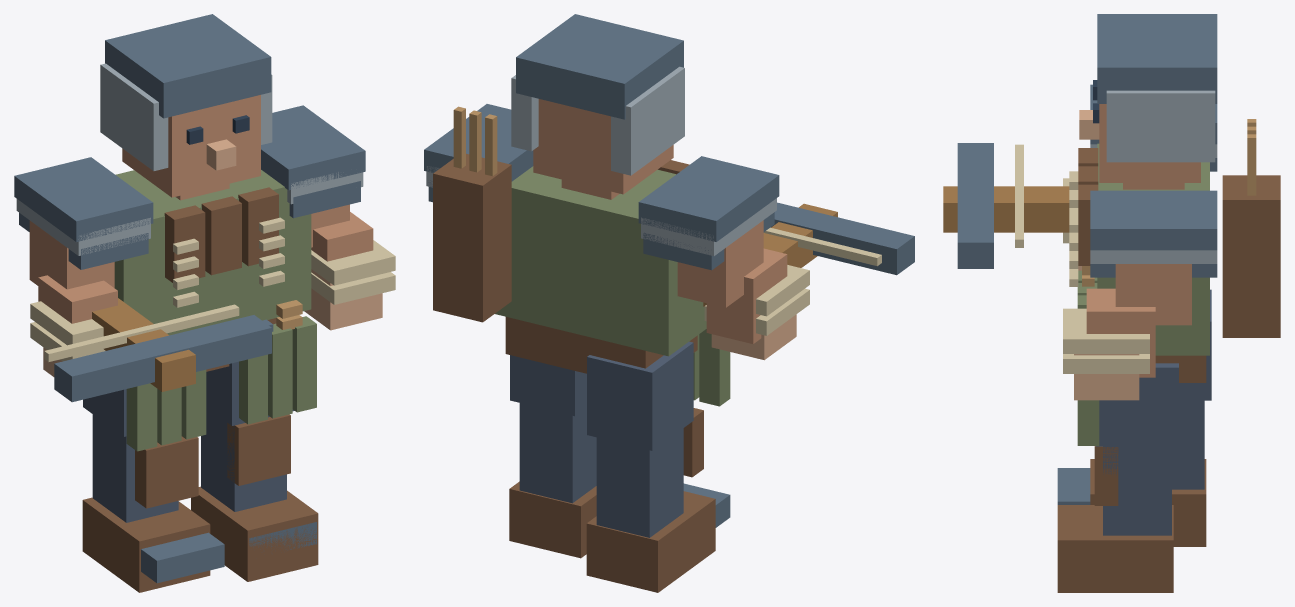
Rendered from arena-q-crossbow.glb.
3 views of the same model, side by side, from view 1: azimuth 30°, elevation 25°; view 2: azimuth 150°, elevation 25°; view 3: azimuth 270°, elevation 25° (orthographic). The views are drawn at different scales.
Visible parts, largest first — view 1: Shoulders, Helmet, Boots, Weapon, Cloth, Legs, Skirt, Arms, Greaves, Head, Vest, Wraps (+4 smaller); view 2: Legs, Cloth, Helmet, Quiver, Shoulders, Boots, Head, Arms, Weapon, Belt, Wraps, Skirt (+2 smaller); view 3: Helmet, Legs, Boots, Shoulders, Quiver, Weapon, Arms, Wraps, Cloth, Head, Hands, Vest (+5 smaller).
Boxes of the visible parts, x1=… form: Shoulders: x1=14, y1=105, x2=365, y2=269; Helmet: x1=100, y1=14, x2=272, y2=170; Boots: x1=82, y1=486, x2=318, y2=592; Weapon: x1=44, y1=298, x2=271, y2=402; Cloth: x1=114, y1=170, x2=311, y2=335; Legs: x1=83, y1=361, x2=294, y2=522; Skirt: x1=126, y1=316, x2=316, y2=451; Arms: x1=29, y1=204, x2=373, y2=323; Greaves: x1=135, y1=414, x2=290, y2=508; Head: x1=122, y1=95, x2=260, y2=200; Vest: x1=164, y1=187, x2=278, y2=282; Wraps: x1=30, y1=240, x2=395, y2=361; Legs: x1=510, y1=341, x2=693, y2=537; Cloth: x1=495, y1=166, x2=706, y2=356; Helmet: x1=511, y1=14, x2=684, y2=175; Quiver: x1=433, y1=106, x2=511, y2=322; Shoulders: x1=424, y1=104, x2=779, y2=270; Boots: x1=509, y1=481, x2=730, y2=592; Head: x1=533, y1=99, x2=673, y2=199; Arms: x1=677, y1=220, x2=787, y2=343; Weapon: x1=703, y1=202, x2=914, y2=306; Belt: x1=505, y1=317, x2=697, y2=373; Wraps: x1=704, y1=265, x2=809, y2=335; Skirt: x1=693, y1=329, x2=730, y2=406; Helmet: x1=1097, y1=14, x2=1217, y2=162; Legs: x1=1095, y1=289, x2=1211, y2=535; Boots: x1=1057, y1=459, x2=1206, y2=592; Shoulders: x1=1090, y1=84, x2=1217, y2=277; Quiver: x1=1222, y1=119, x2=1280, y2=337; Weapon: x1=943, y1=143, x2=1069, y2=268; Arms: x1=1086, y1=264, x2=1191, y2=377; Wraps: x1=1063, y1=178, x2=1149, y2=373; Cloth: x1=1097, y1=143, x2=1209, y2=355; Head: x1=1099, y1=104, x2=1200, y2=189; Hands: x1=1074, y1=266, x2=1139, y2=400; Vest: x1=1078, y1=148, x2=1098, y2=265.
Size of the model in its own units: 1.41 by 1.8 by 1.08.
